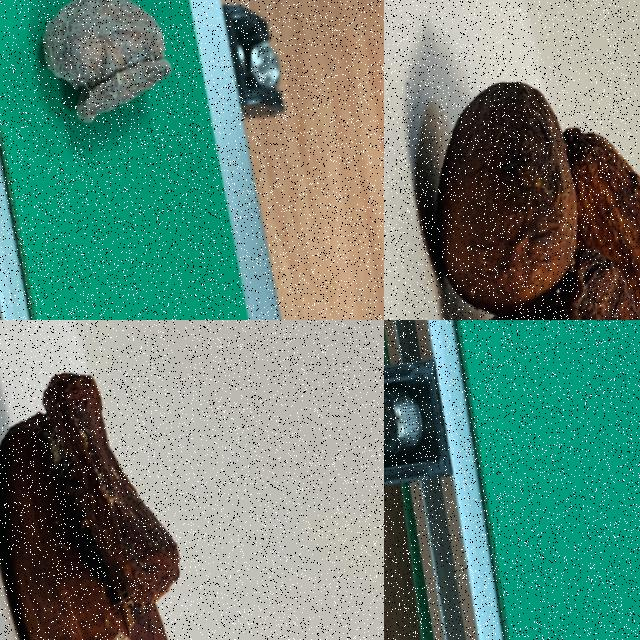Agglomerated_cocoabeans: (384, 9, 639, 319), (0, 320, 235, 639), (0, 0, 230, 238)
Fine_cocoabeans: (428, 320, 619, 390)
